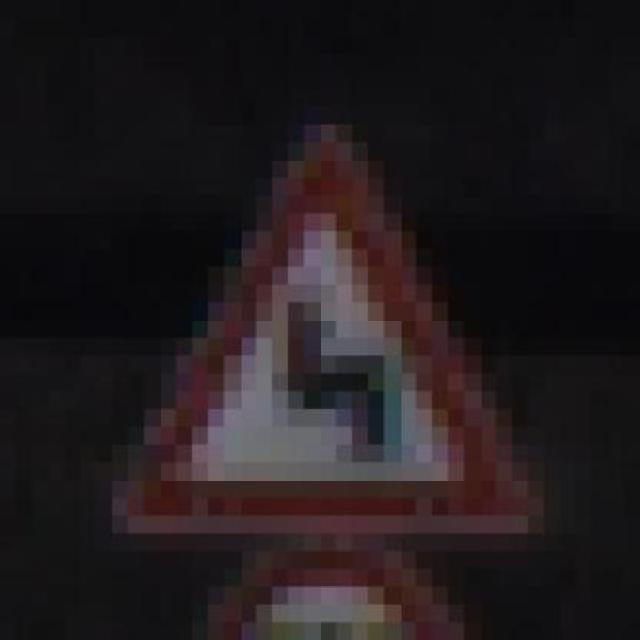Left Zig Zag Traffic: (95, 124, 560, 551)
